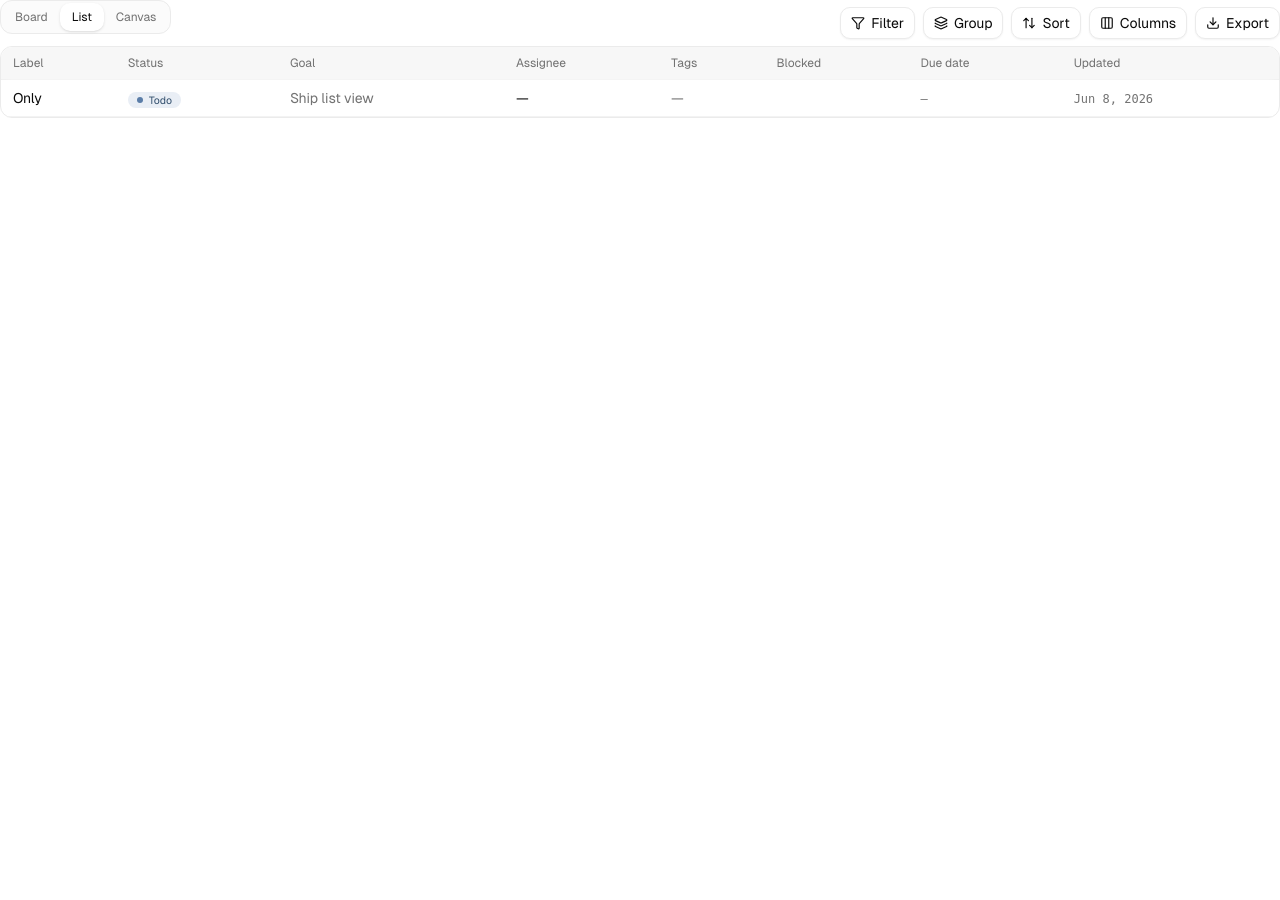
Test: TaskList › filter menu hides operators that are invalid for the selected field
The width and height of the screenshot is (1280, 900).
Expected: the text "Only" is shown, [13,90,42,106]
Click the button "Filter".
click(878, 23)  # box [840,7,915,39]
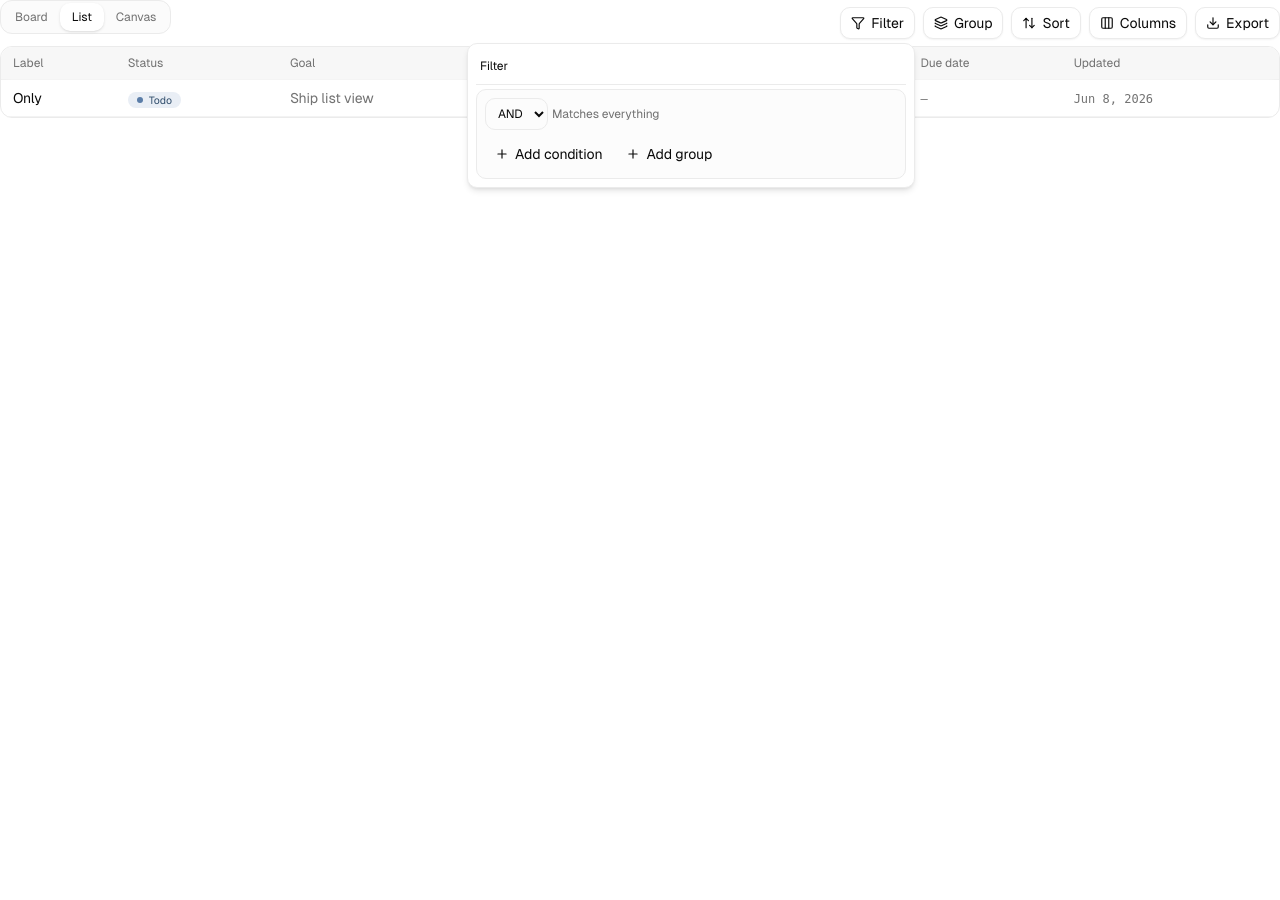
Click the button with aria-label "Add condition to root".
click(549, 154)  # box [485,138,612,170]
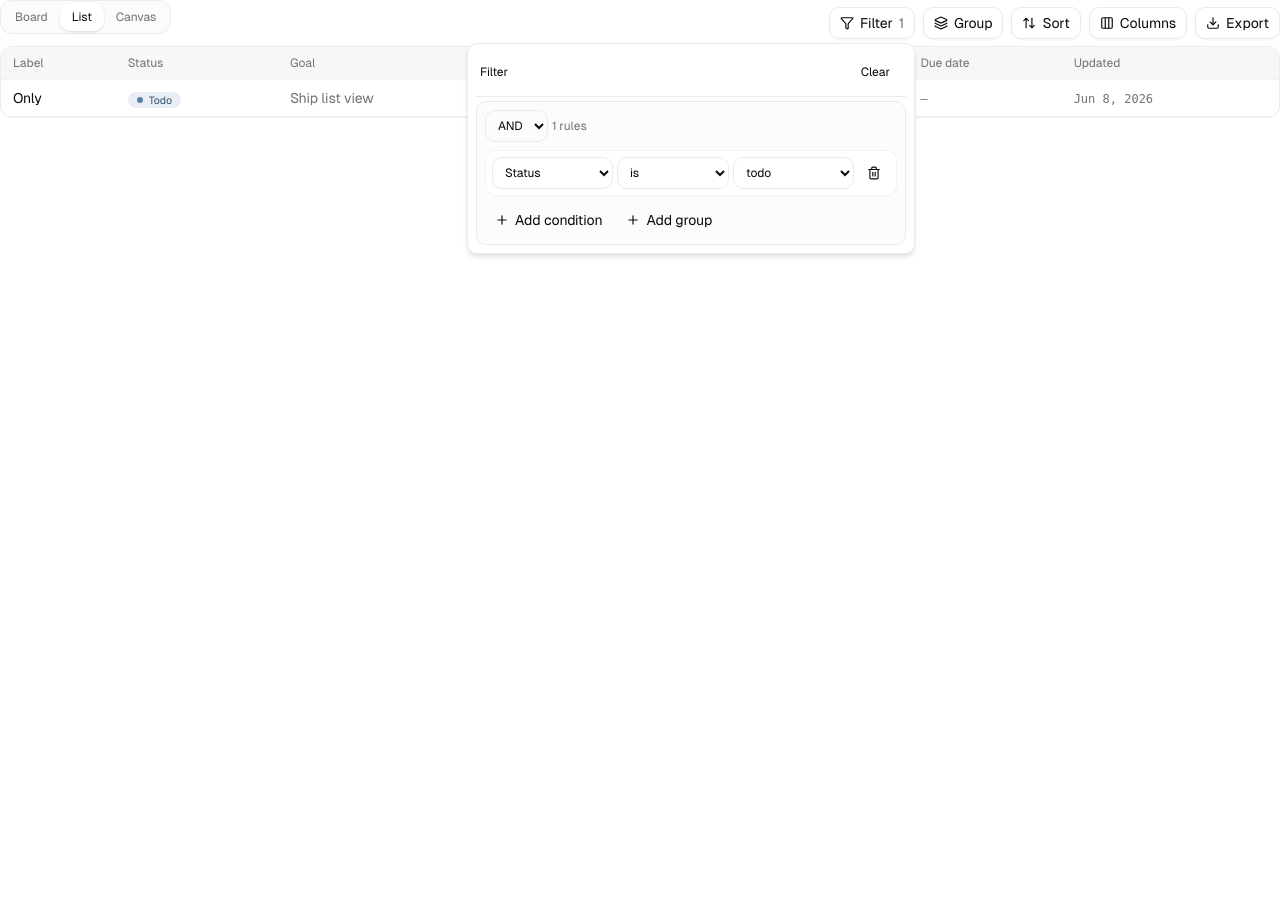
Select "Status" in the dropdown named "Filter field root.0" at (552, 173), box [492,157,613,189]
Select "Due date" in the dropdown named "Filter field root.0" at (552, 173), box [492,157,613,189]
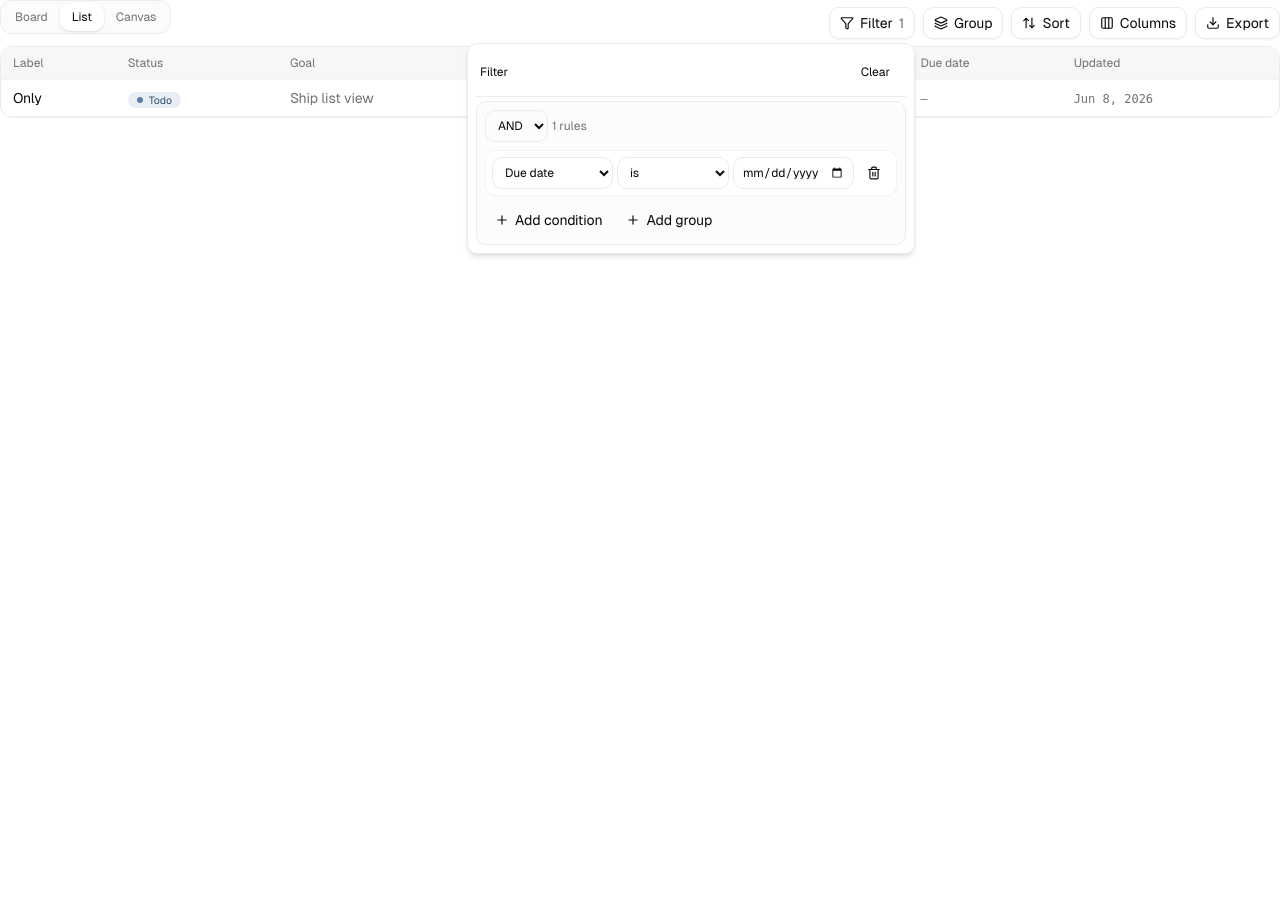
Select "Tags" in the dropdown named "Filter field root.0" at (552, 173), box [492,157,613,189]
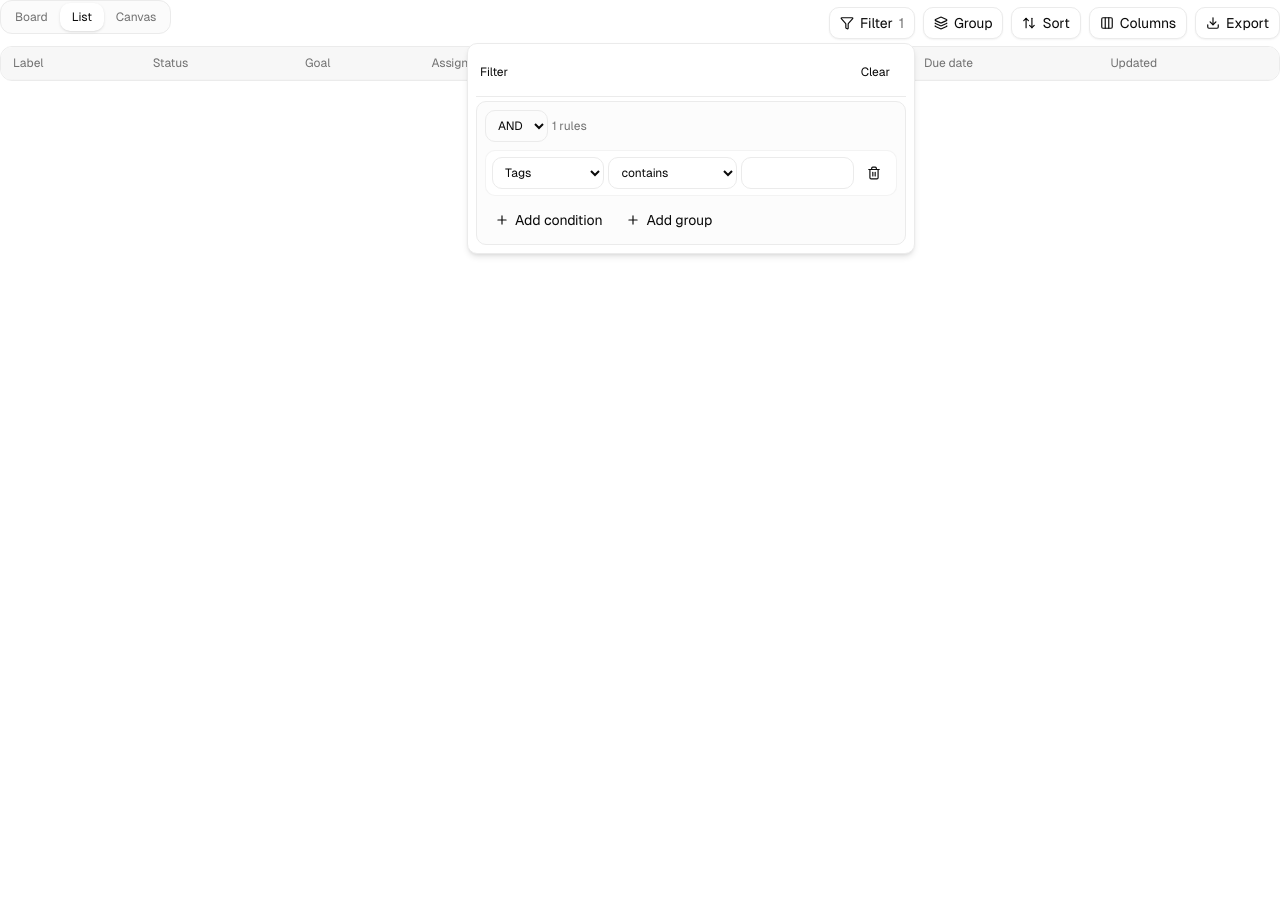
Expected: the dropdown named "Filter operator root.0" shows "contains", [608,157,738,189]
